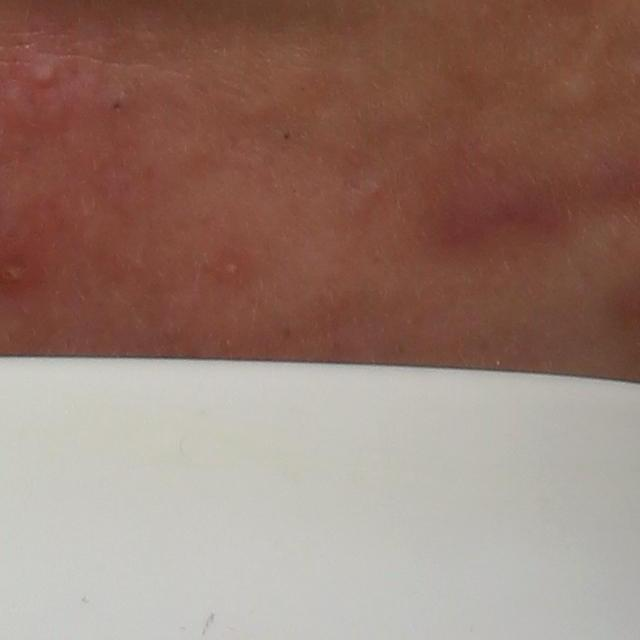hypertrophic_scar: (536, 61, 612, 124)
papule: (25, 54, 60, 92)
